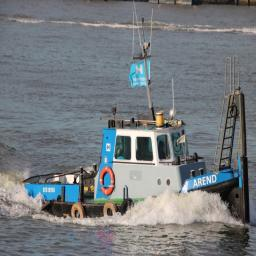tugboat: (18, 42, 253, 233)
